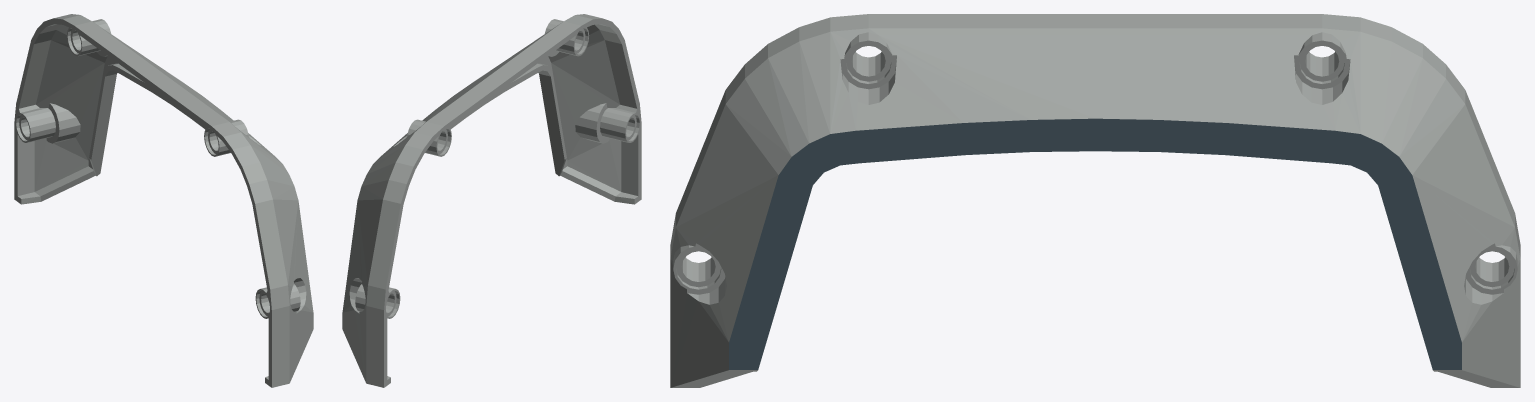
3 views of the same model, side by side, from view 1: azimuth 30°, elevation 25°; view 2: azimuth 150°, elevation 25°; view 3: azimuth 270°, elevation 25° (orthographic). The views are drawn at different scales.
Visible parts, largest first — view 1: world; view 2: world; view 3: world.
Part boxes in pixels (bbox=[...]): world: bbox=[14, 14, 313, 387]; world: bbox=[342, 14, 641, 387]; world: bbox=[670, 14, 1520, 387].
Size of the model in its own units: 0.016 by 0.056 by 0.12.
